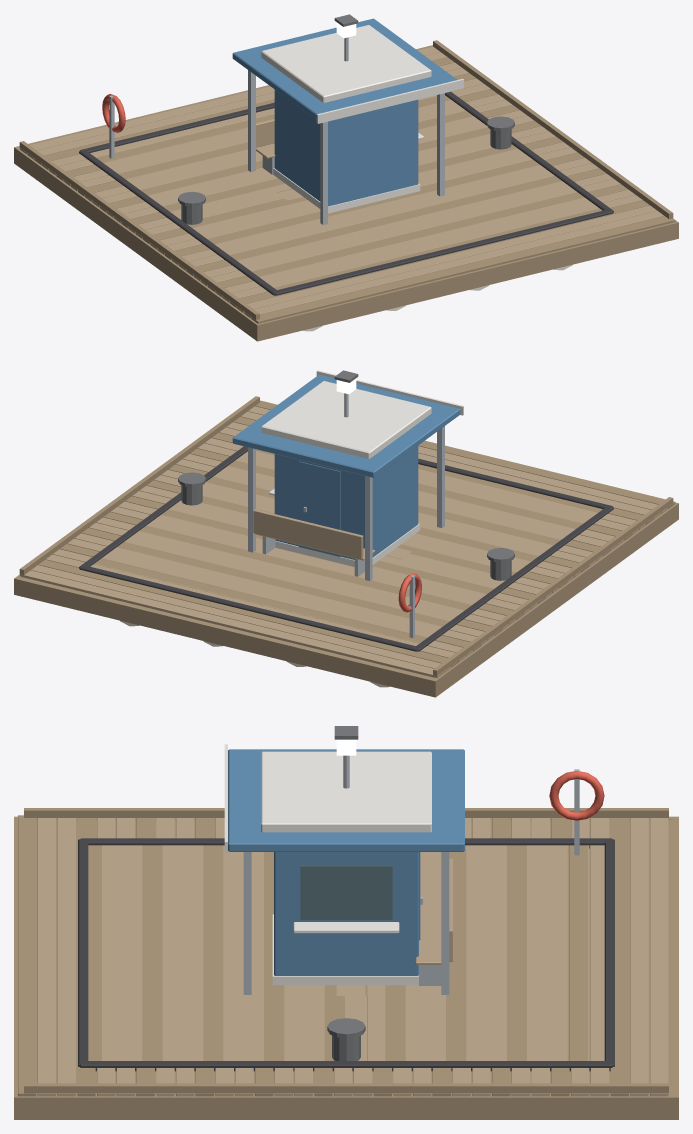
The model's file is ferry_landing.glb.
3 views of the same model, one above another, from view 1: azimuth 30°, elevation 25°; view 2: azimuth 150°, elevation 25°; view 3: azimuth 270°, elevation 25° (orthographic). The views are drawn at different scales.
Parts seen in each view (by area): view 1: fy_stage_mesh, fy_pontoon_mesh, fy_kiosk_mesh, fy_shelter_mesh, fy_lamp_mesh; view 2: fy_stage_mesh, fy_pontoon_mesh, fy_kiosk_mesh, fy_shelter_mesh, fy_lamp_mesh; view 3: fy_pontoon_mesh, fy_stage_mesh, fy_kiosk_mesh, fy_shelter_mesh, fy_lamp_mesh.
Part boxes in pixels (left/top/right/bottom): fy_stage_mesh: left=14, top=40, right=678, bottom=341; fy_pontoon_mesh: left=79, top=91, right=613, bottom=331; fy_kiosk_mesh: left=261, top=25, right=431, bottom=213; fy_shelter_mesh: left=232, top=18, right=463, bottom=224; fy_lamp_mesh: left=334, top=14, right=358, bottom=61; fy_stage_mesh: left=14, top=396, right=678, bottom=697; fy_pontoon_mesh: left=79, top=446, right=613, bottom=687; fy_kiosk_mesh: left=261, top=381, right=431, bottom=566; fy_shelter_mesh: left=232, top=370, right=463, bottom=580; fy_lamp_mesh: left=334, top=370, right=358, bottom=417; fy_pontoon_mesh: left=78, top=769, right=614, bottom=1071; fy_stage_mesh: left=14, top=808, right=678, bottom=1119; fy_kiosk_mesh: left=261, top=751, right=431, bottom=985; fy_shelter_mesh: left=224, top=744, right=464, bottom=994; fy_lamp_mesh: left=334, top=726, right=358, bottom=788.
Bounding box in the file's own units: 10.1 × 4.91 × 10.1.
